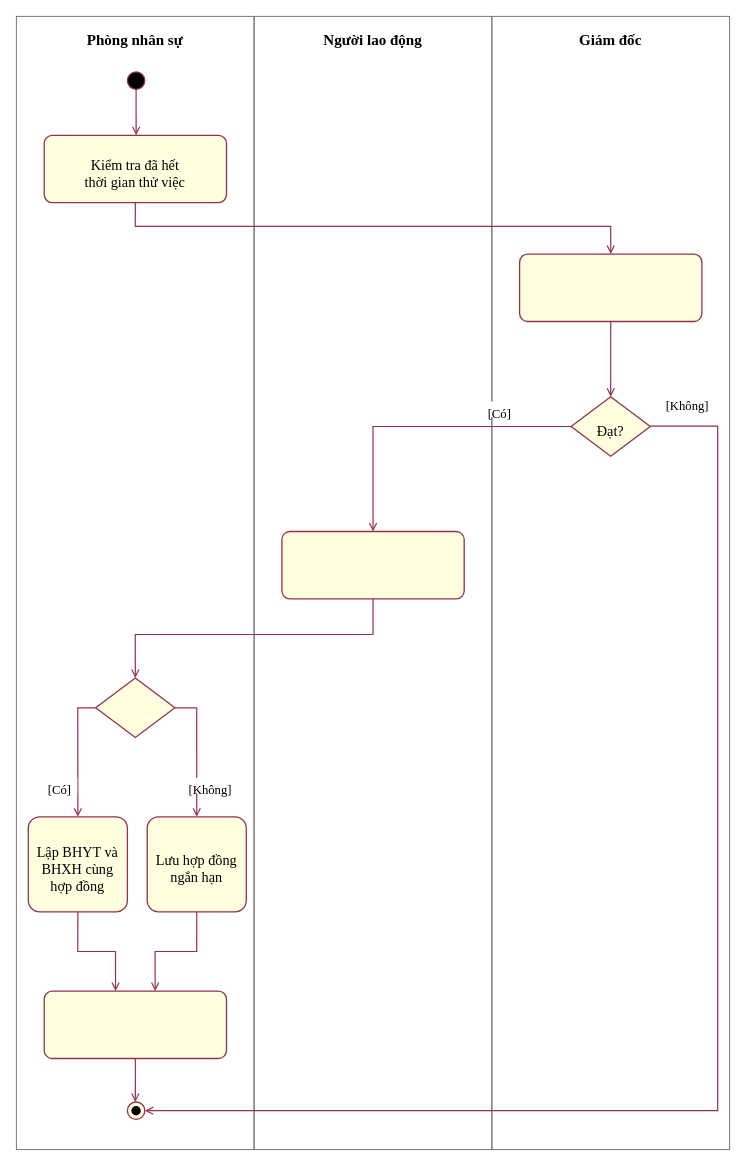
This 746x1166 diagram has some shape labels left out. The shapes that lost their labels are listed below. From the top down, each one's centre as x and y in pixels, then its label:
At (610,287): "Xác nhận kết quả đánh giá thử việc".
At (372,564): "Thống nhất và ký hợp đồng".
At (135,707): "Dài hạn?".
At (135,1024): "Lập quyết định lương; chức vụ nếu có".
